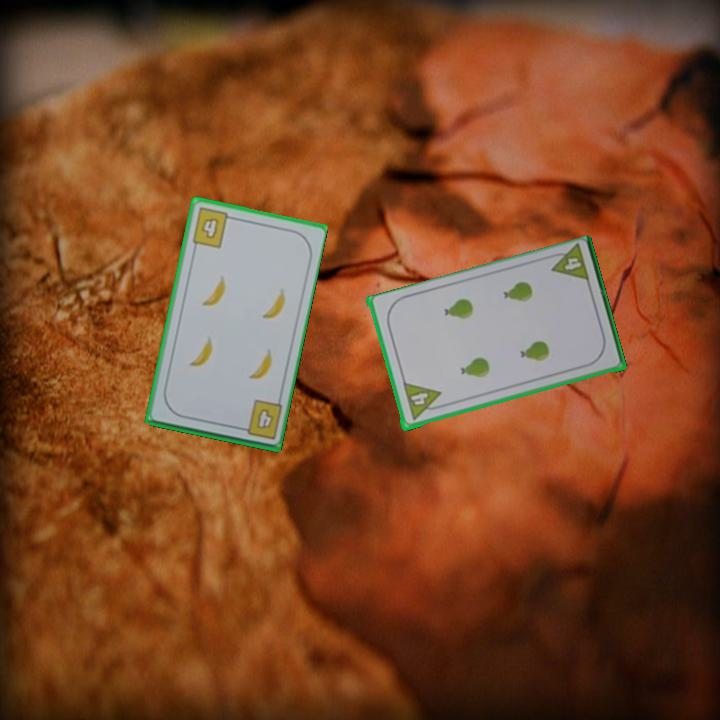4b: (234, 396, 285, 442), (188, 204, 237, 251)
4p: (544, 242, 592, 286), (400, 379, 446, 424)
